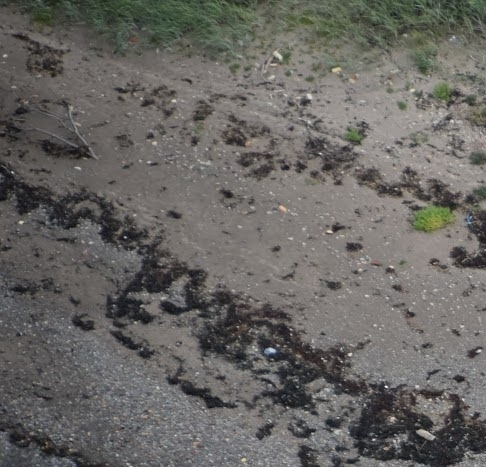scattered_barrel: (267, 44, 348, 107)
white_in_green: (400, 405, 460, 457)
